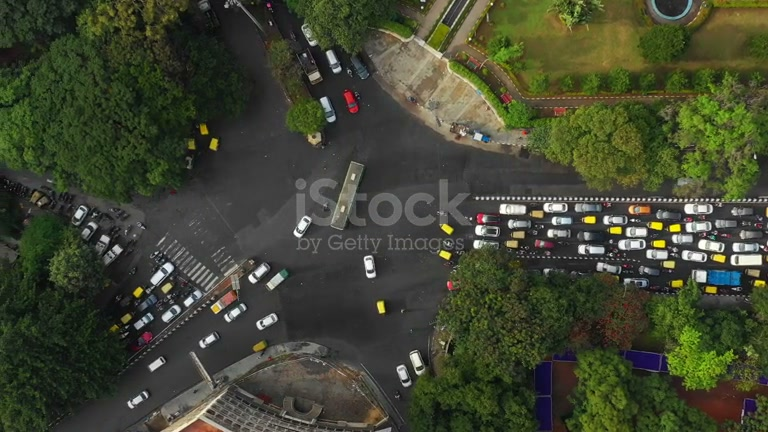car: (167, 340, 393, 429)
